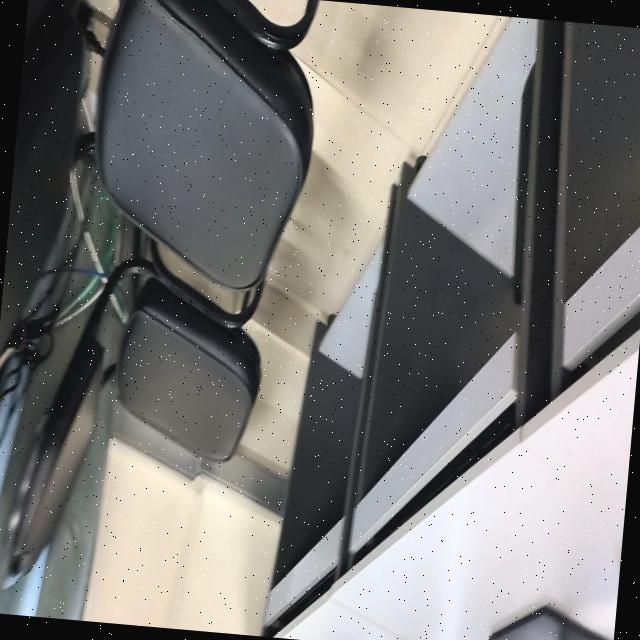Chair: (0, 0, 319, 347), (4, 256, 266, 579)
Cpu: (511, 66, 532, 302)
Monitor: (487, 606, 608, 640)
